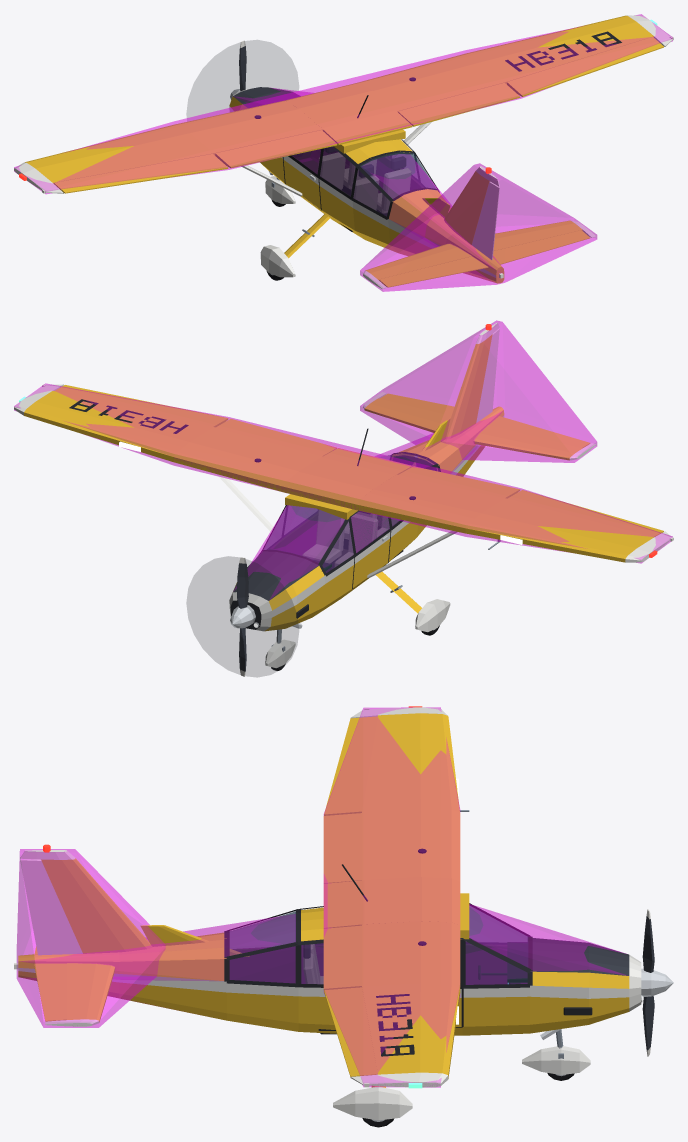
The model's file is plane_prop.glb.
3 views of the same model, one above another, from view 1: azimuth 30°, elevation 25°; view 2: azimuth 150°, elevation 25°; view 3: azimuth 270°, elevation 25° (orthographic). The views are drawn at different scales.
Parts seen in each view (by area): view 1: Body, Col_Wing, Col_Tail, Col_Body, PropBlur, Glass_Rear, Aileron_R, Aileron_L, Elevator, Flap_R, Flap_L, Rudder (+2 smaller); view 2: Body, Col_Wing, Col_Tail, PropBlur, Col_Body, Glass_Windshield, Aileron_R, Aileron_L, Elevator, Flap_R, Flap_L, Propeller (+4 smaller); view 3: Body, Col_Wing, Col_Tail, Col_Body, Glass_Rear, Glass_Windshield, Rudder, Aileron_L, Aileron_R, Flap_L, Flap_R, Propeller (+2 smaller).
Part boxes in pixels (x1,y1,x2,y2): Body: (14,15,673,288); Col_Wing: (14,14,672,194); Col_Tail: (360,163,597,291); Col_Body: (234,88,499,268); PropBlur: (186,40,298,117); Glass_Rear: (353,152,435,216); Aileron_R: (507,37,663,96); Aileron_L: (54,154,228,193); Elevator: (379,230,589,287); Flap_R: (398,83,520,126); Flap_L: (215,130,337,168); Rudder: (472,181,499,259); Body: (14,322,673,668); Col_Wing: (14,383,672,563); Col_Tail: (360,320,597,462); PropBlur: (186,556,298,677); Col_Body: (234,412,501,599); Glass_Windshield: (263,505,353,572); Aileron_R: (54,385,228,427); Aileron_L: (508,490,663,537); Elevator: (379,393,590,448); Flap_R: (216,419,336,456); Flap_L: (399,466,520,498); Propeller: (230,557,255,676); Body: (14,706,643,1120); Col_Wing: (323,707,460,1087); Col_Tail: (16,849,164,1027); Col_Body: (21,904,626,1001); Glass_Rear: (229,911,295,983); Glass_Windshield: (465,905,527,984); Rudder: (20,859,82,955); Aileron_L: (324,716,377,815); Aileron_R: (324,987,377,1076); Flap_L: (323,813,361,883); Flap_R: (323,925,361,990); Propeller: (641,909,673,1056).
Size of the model in its own units: 10.63 by 3.07 by 7.84.
